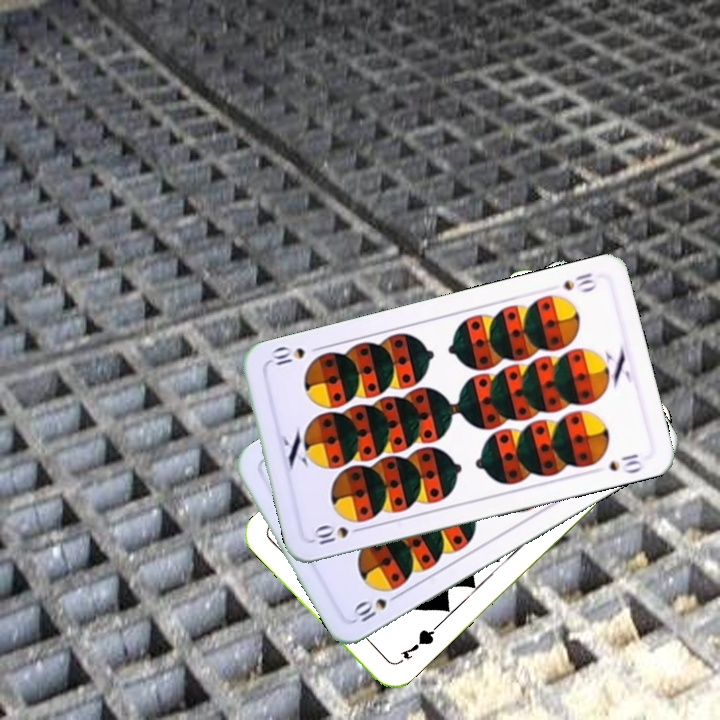G7: (396, 622, 440, 663)
S10: (349, 588, 404, 625), (309, 522, 367, 547), (559, 269, 600, 295)
